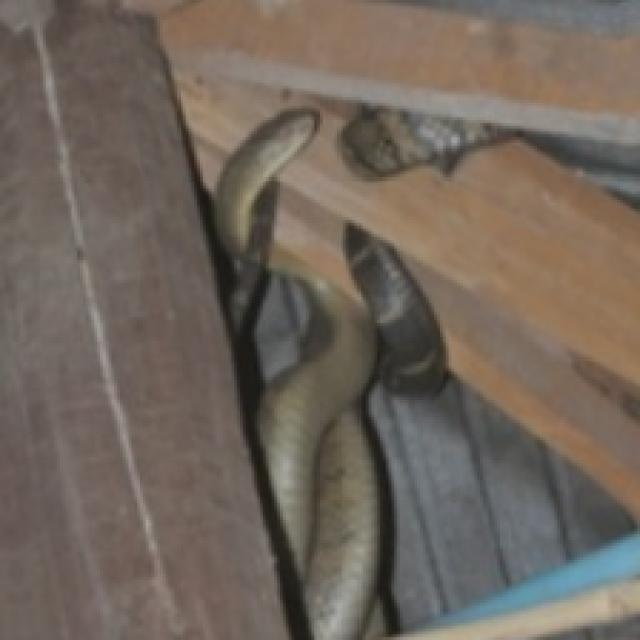king cobra: (214, 109, 446, 637), (254, 274, 309, 380)
